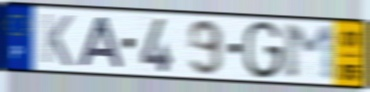4: (138, 15, 176, 75)
9: (186, 17, 225, 77)
A: (76, 15, 126, 70)
G: (242, 19, 286, 81)
K: (40, 11, 75, 69)
M: (282, 23, 340, 83)
